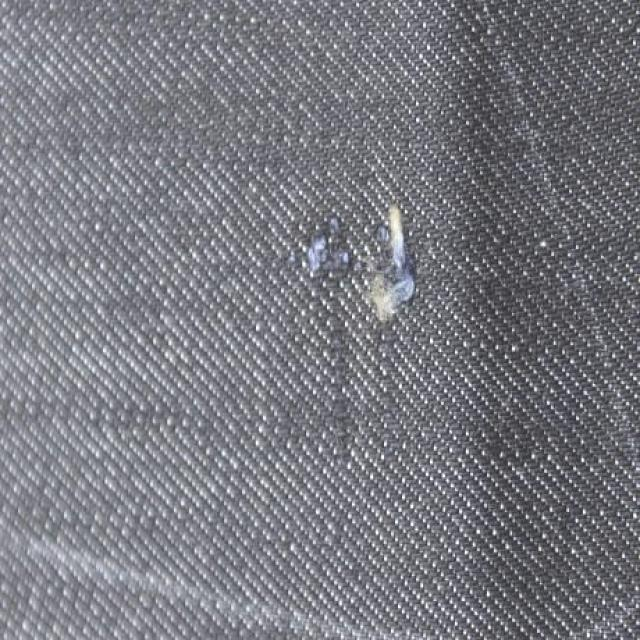Thread_other: (237, 150, 463, 508)
